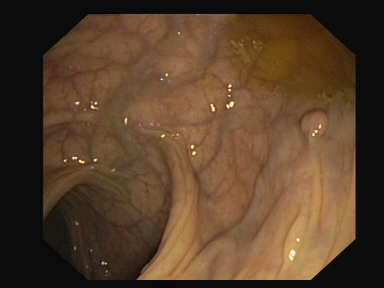polyp: (296, 106, 332, 144)
